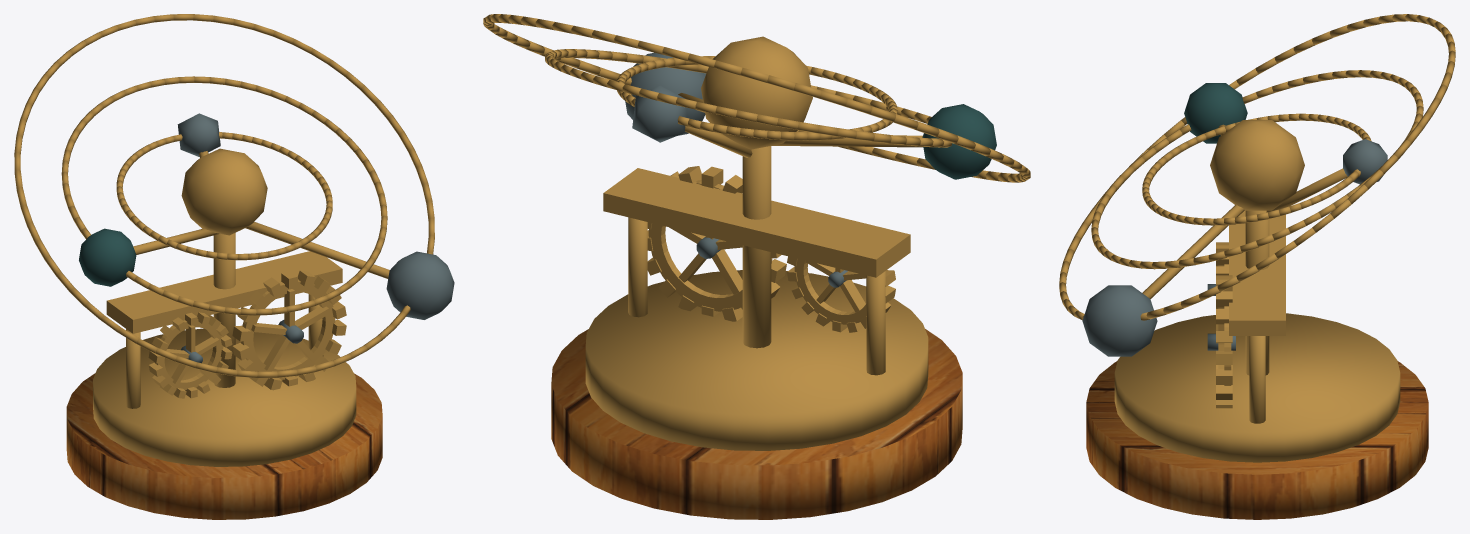
The picture shows the model from 3 angles, left to right: view 1: azimuth 30°, elevation 25°; view 2: azimuth 150°, elevation 25°; view 3: azimuth 270°, elevation 25°; orthographic projection. The views are drawn at different scales.
Parts seen in each view (by area): view 1: clockshop_brass, clockshop_walnut, clockshop_steel, clockshop_teal; view 2: clockshop_brass, clockshop_walnut, clockshop_steel, clockshop_teal; view 3: clockshop_brass, clockshop_walnut, clockshop_steel, clockshop_teal.
Part boxes in pixels (<box>): clockshop_brass: <box>14,14,434,466</box>; clockshop_walnut: <box>66,373,382,519</box>; clockshop_steel: <box>177,113,454,363</box>; clockshop_teal: <box>79,228,136,286</box>; clockshop_brass: <box>483,14,1030,450</box>; clockshop_walnut: <box>551,329,962,519</box>; clockshop_steel: <box>625,52,847,287</box>; clockshop_teal: <box>922,104,996,179</box>; clockshop_brass: <box>1059,14,1455,462</box>; clockshop_walnut: <box>1086,361,1428,519</box>; clockshop_steel: <box>1082,139,1387,356</box>; clockshop_teal: <box>1184,83,1247,143</box>.
Bounding box in the file's own units: 0.9941 × 0.9215 × 0.8336.
4 materials, 1 textured.
